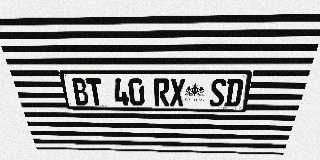0: (128, 78, 144, 106)
4: (112, 78, 130, 106)
B: (70, 78, 90, 105)
D: (224, 79, 244, 107)
R: (154, 79, 169, 106)
S: (208, 79, 227, 107)
T: (86, 78, 104, 105)
X: (170, 79, 185, 106)
